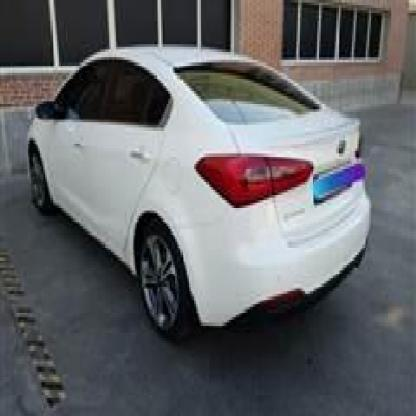Car: (24, 47, 371, 356)
